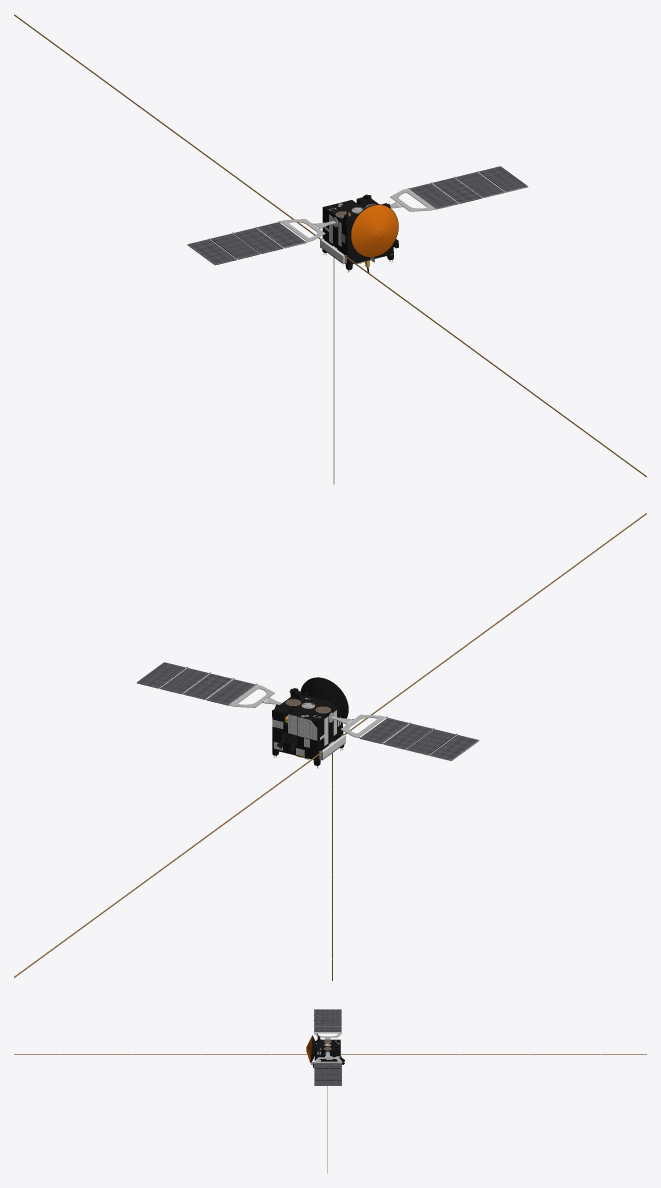
The model's file is Mars Express.fbx.
3 renders of one model, top to bottom at view 1: azimuth 30°, elevation 25°; view 2: azimuth 150°, elevation 25°; view 3: azimuth 270°, elevation 25°, orthographic. The views are drawn at different scales.
Parts seen in each view (by area): view 1: MarsExpress_low; view 2: MarsExpress_low; view 3: MarsExpress_low.
Boxes of the visible parts, <box> form: MarsExpress_low: <box>14,14,646,484</box>; MarsExpress_low: <box>14,513,646,980</box>; MarsExpress_low: <box>14,1009,646,1173</box>.
Bounding box in the file's own units: 903 × 783 × 3147.
